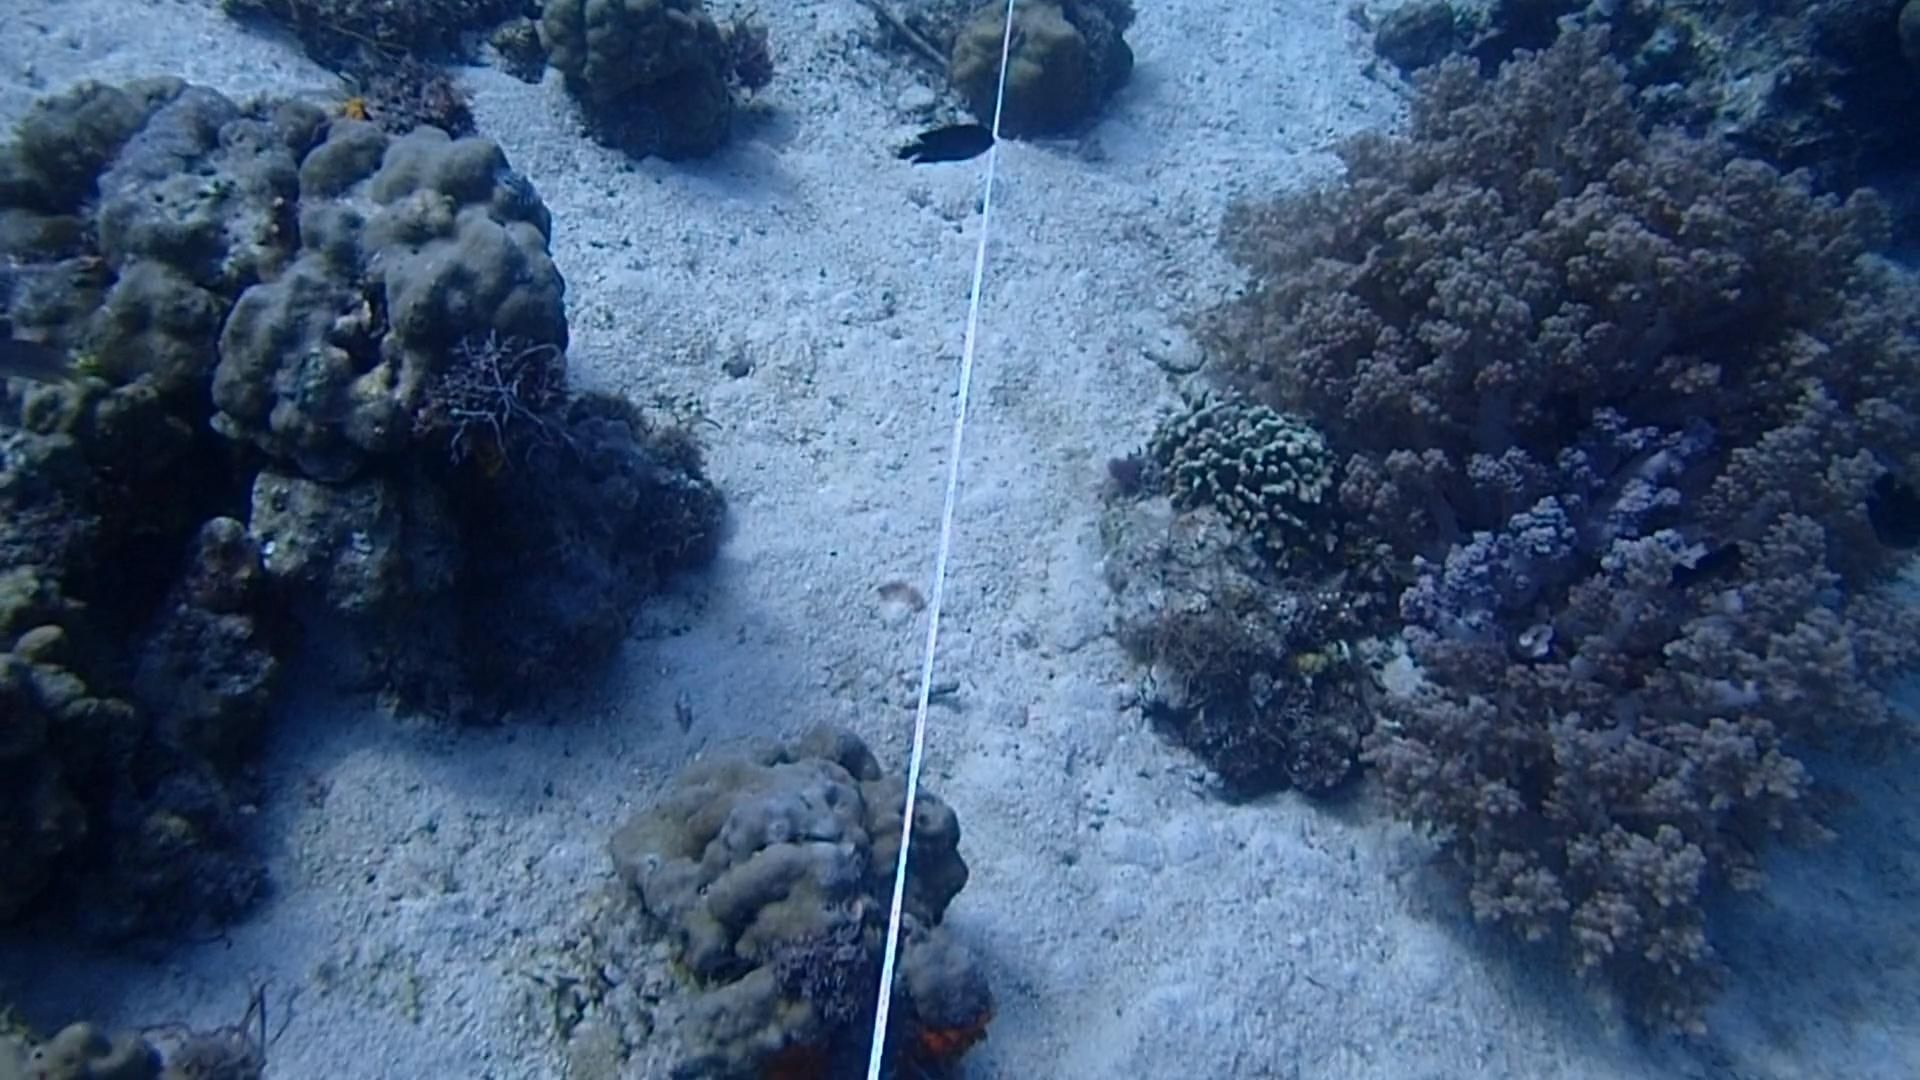Dark Fish: (889, 117, 1004, 173), (1662, 531, 1750, 599), (1858, 460, 1920, 555)
